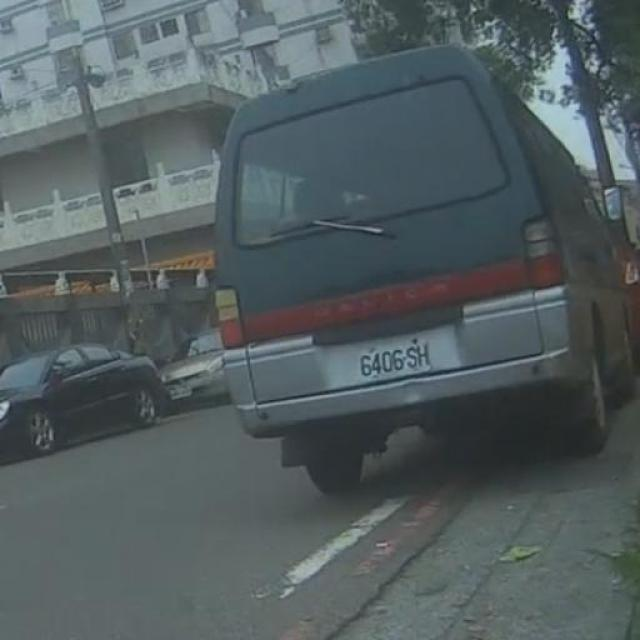Legalparking: (0, 344, 225, 455)
illegalparking: (216, 46, 631, 494)
